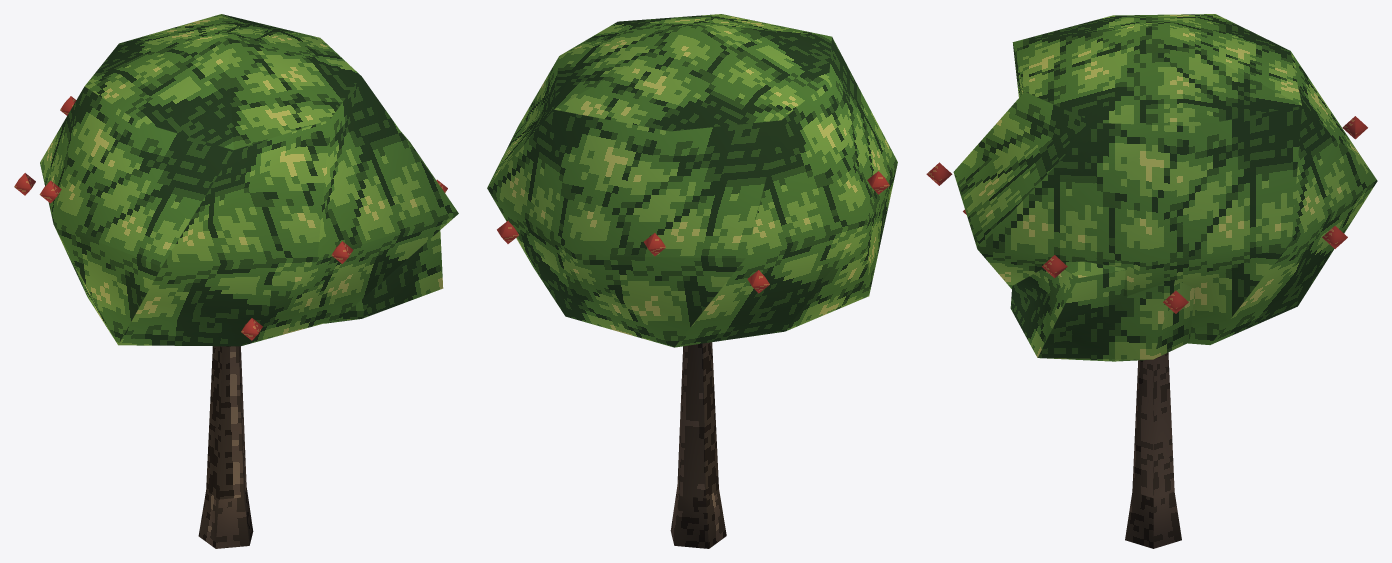
The model's file is mnat.orchard.glb.
The picture shows the model from 3 angles, left to right: view 1: azimuth 30°, elevation 25°; view 2: azimuth 150°, elevation 25°; view 3: azimuth 270°, elevation 25°; orthographic projection. The views are drawn at different scales.
Visible parts, largest first — view 1: kit_crown, kit_trunk, kit_fruit; view 2: kit_crown, kit_trunk, kit_fruit; view 3: kit_crown, kit_trunk, kit_fruit.
Boxes of the visible parts, left/top/right/bottom form: kit_crown: left=40, top=14, right=458, bottom=346; kit_trunk: left=198, top=346, right=253, bottom=548; kit_fruit: left=14, top=96, right=447, bottom=340; kit_crown: left=487, top=14, right=897, bottom=347; kit_trunk: left=670, top=342, right=726, bottom=548; kit_fruit: left=497, top=171, right=889, bottom=293; kit_crown: left=953, top=14, right=1377, bottom=361; kit_trunk: left=1125, top=352, right=1181, bottom=548; kit_fruit: left=926, top=116, right=1367, bottom=313.
Size of the model in its own units: 3.37 by 4.3 by 3.45.
Materials: 3 (3 with a texture image).
